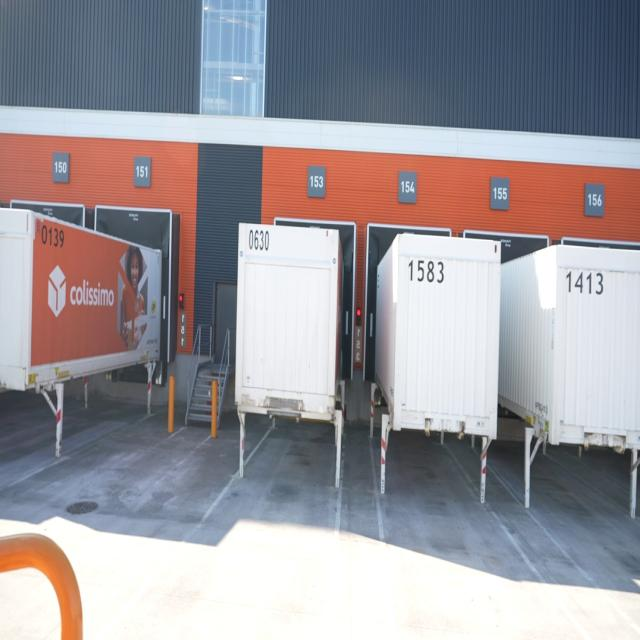Code: (565, 268, 606, 302), (407, 256, 448, 288), (245, 223, 274, 256), (39, 218, 64, 249)
